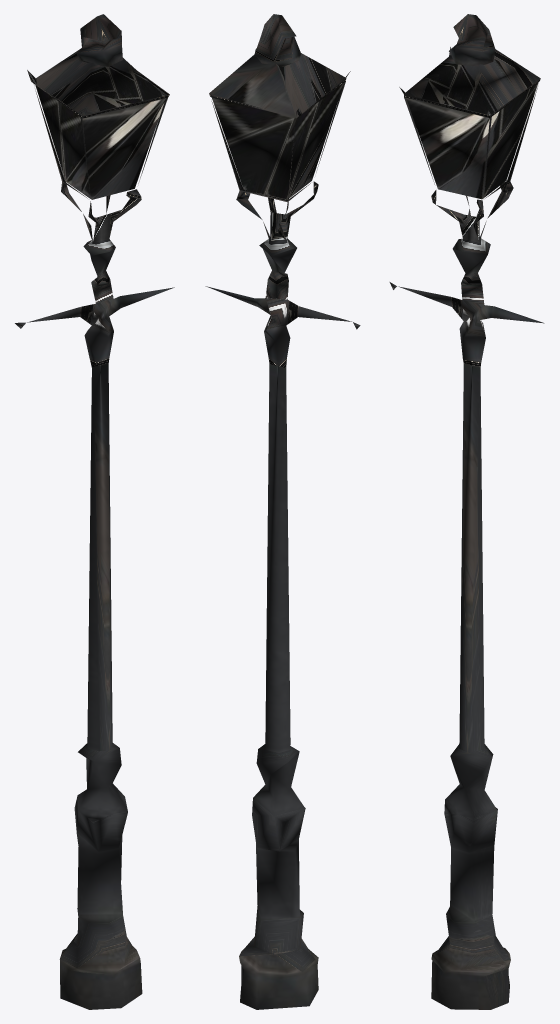
Rendered from street_lamp_01_lo.glb.
3 renders of one model, left to right at view 1: azimuth 30°, elevation 25°; view 2: azimuth 150°, elevation 25°; view 3: azimuth 330°, elevation 25°, orthographic.
Visible parts, largest first — view 1: street_lamp_01; view 2: street_lamp_01; view 3: street_lamp_01.
Boxes of the visible parts, box(x1,y1,x2,y2) form: street_lamp_01: box(15, 14, 174, 1009); street_lamp_01: box(205, 14, 360, 1009); street_lamp_01: box(389, 14, 544, 1009).
Size of the model in its own units: 0.6448 by 3.8 by 0.3694.
2 materials, 2 textured.
